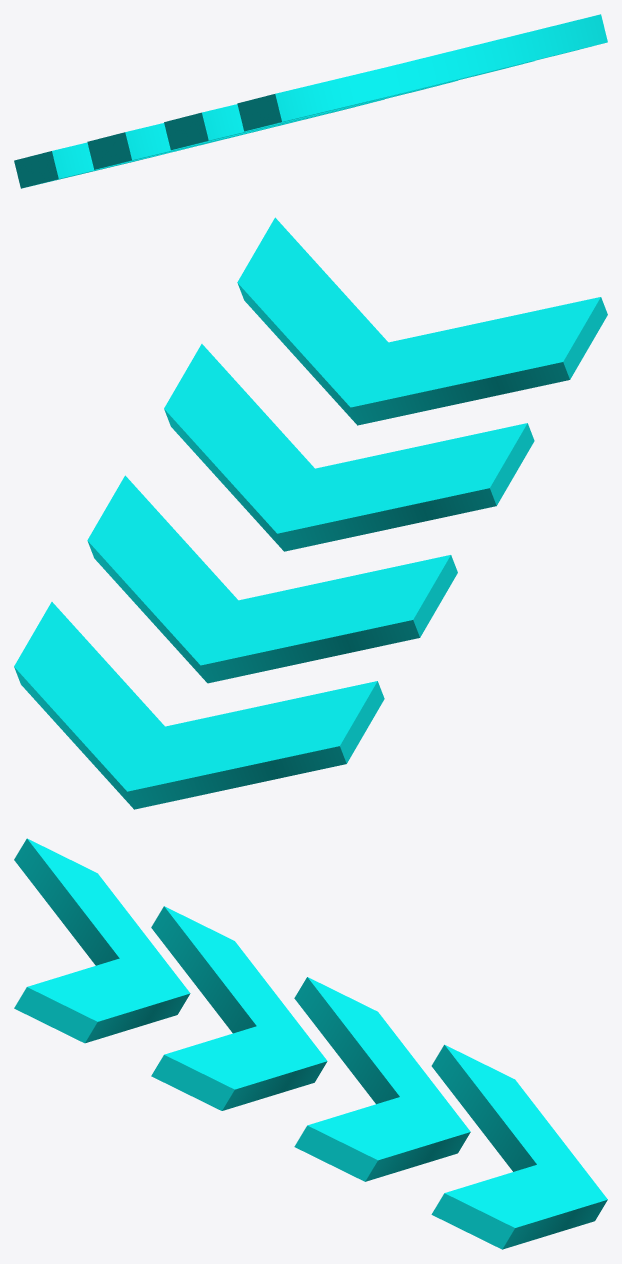
File: item_speedup.fbx
The picture shows the model from 3 angles, top to bottom: view 1: azimuth 30°, elevation 25°; view 2: azimuth 150°, elevation 25°; view 3: azimuth 270°, elevation 25°; orthographic projection. The views are drawn at different scales.
Visible parts, largest first — view 1: item_speedup; view 2: item_speedup; view 3: item_speedup.
Part boxes in pixels (bbox=[...]): item_speedup: bbox=[14, 14, 607, 188]; item_speedup: bbox=[14, 217, 607, 809]; item_speedup: bbox=[14, 838, 607, 1249].
Size of the model in its own units: 2.85 by 2.76 by 4.81.
